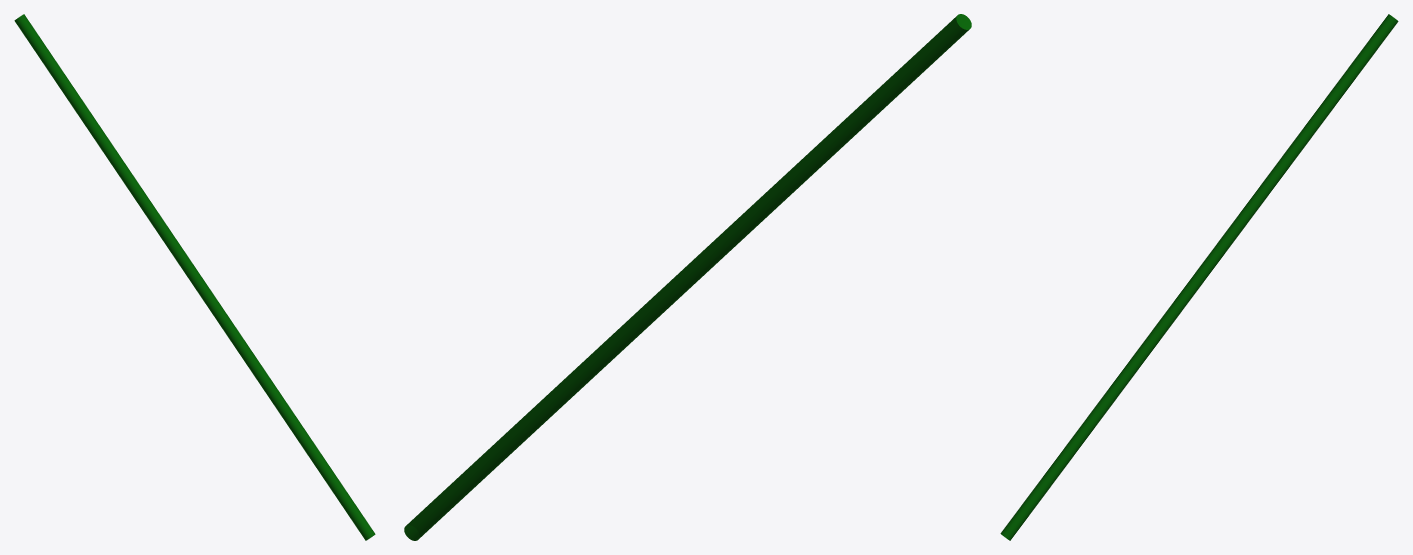
File: Event_420094457_jet_0.fbx
The picture shows the model from 3 angles, left to right: view 1: azimuth 30°, elevation 25°; view 2: azimuth 210°, elevation 25°; view 3: azimuth 270°, elevation 25°; orthographic projection. The views are drawn at different scales.
Visible parts, largest first — view 1: Model; view 2: Model; view 3: Model.
Part boxes in pixels (x1,y1,x2,y2): Model: (14,14,375,540); Model: (404,14,971,540); Model: (1000,14,1398,540).
Size of the model in its own units: 0.6719 by 1.59 by 1.29.
